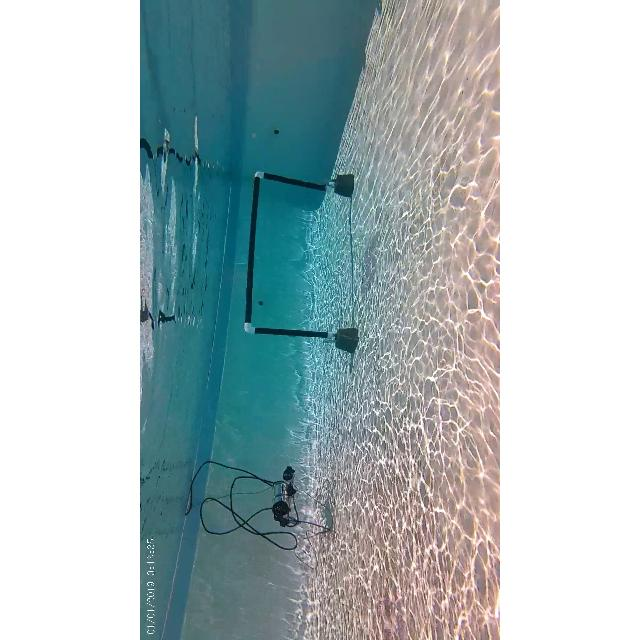prequal gate: (244, 171, 334, 339)
prequal gate leg l: (240, 316, 360, 358)
prequal gate leg r: (250, 169, 360, 201)
